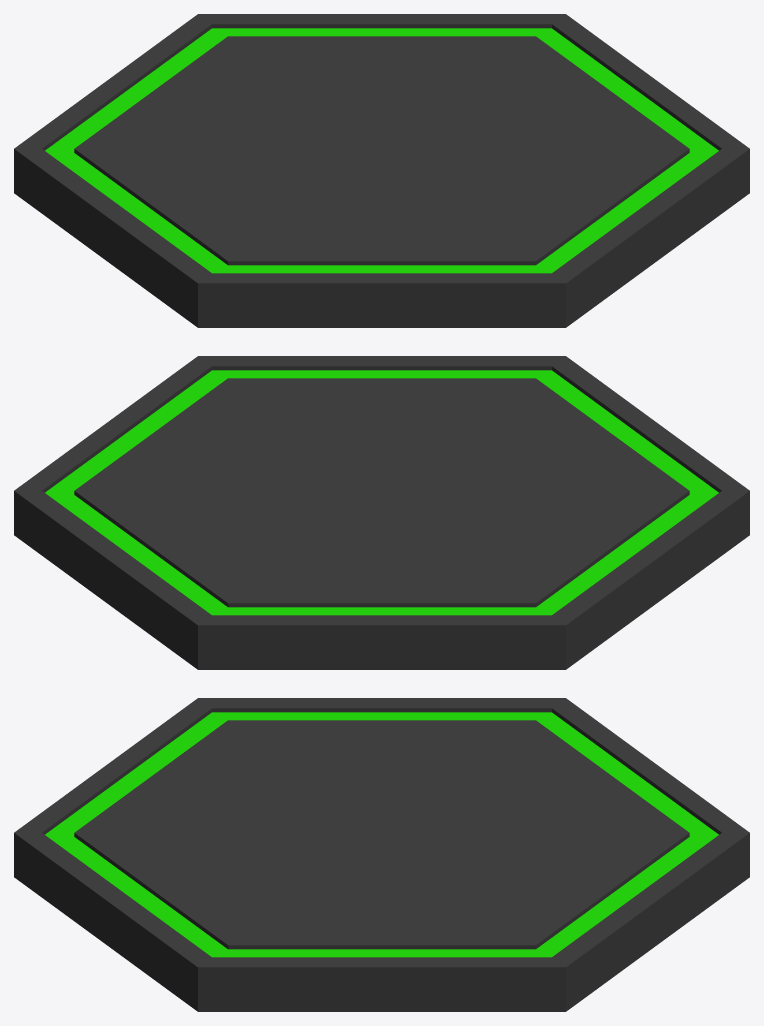
File: Lounch Pad.fbx
3 renders of one model, top to bottom at view 1: azimuth 30°, elevation 25°; view 2: azimuth 150°, elevation 25°; view 3: azimuth 270°, elevation 25°, orthographic.
Visible parts, largest first — view 1: Cylinder; view 2: Cylinder; view 3: Cylinder.
Part boxes in pixels (<box>): Cylinder: <box>14,14,749,327</box>; Cylinder: <box>14,356,749,669</box>; Cylinder: <box>14,698,749,1011</box>.
Size of the model in its own units: 1039 by 80 by 1200.
